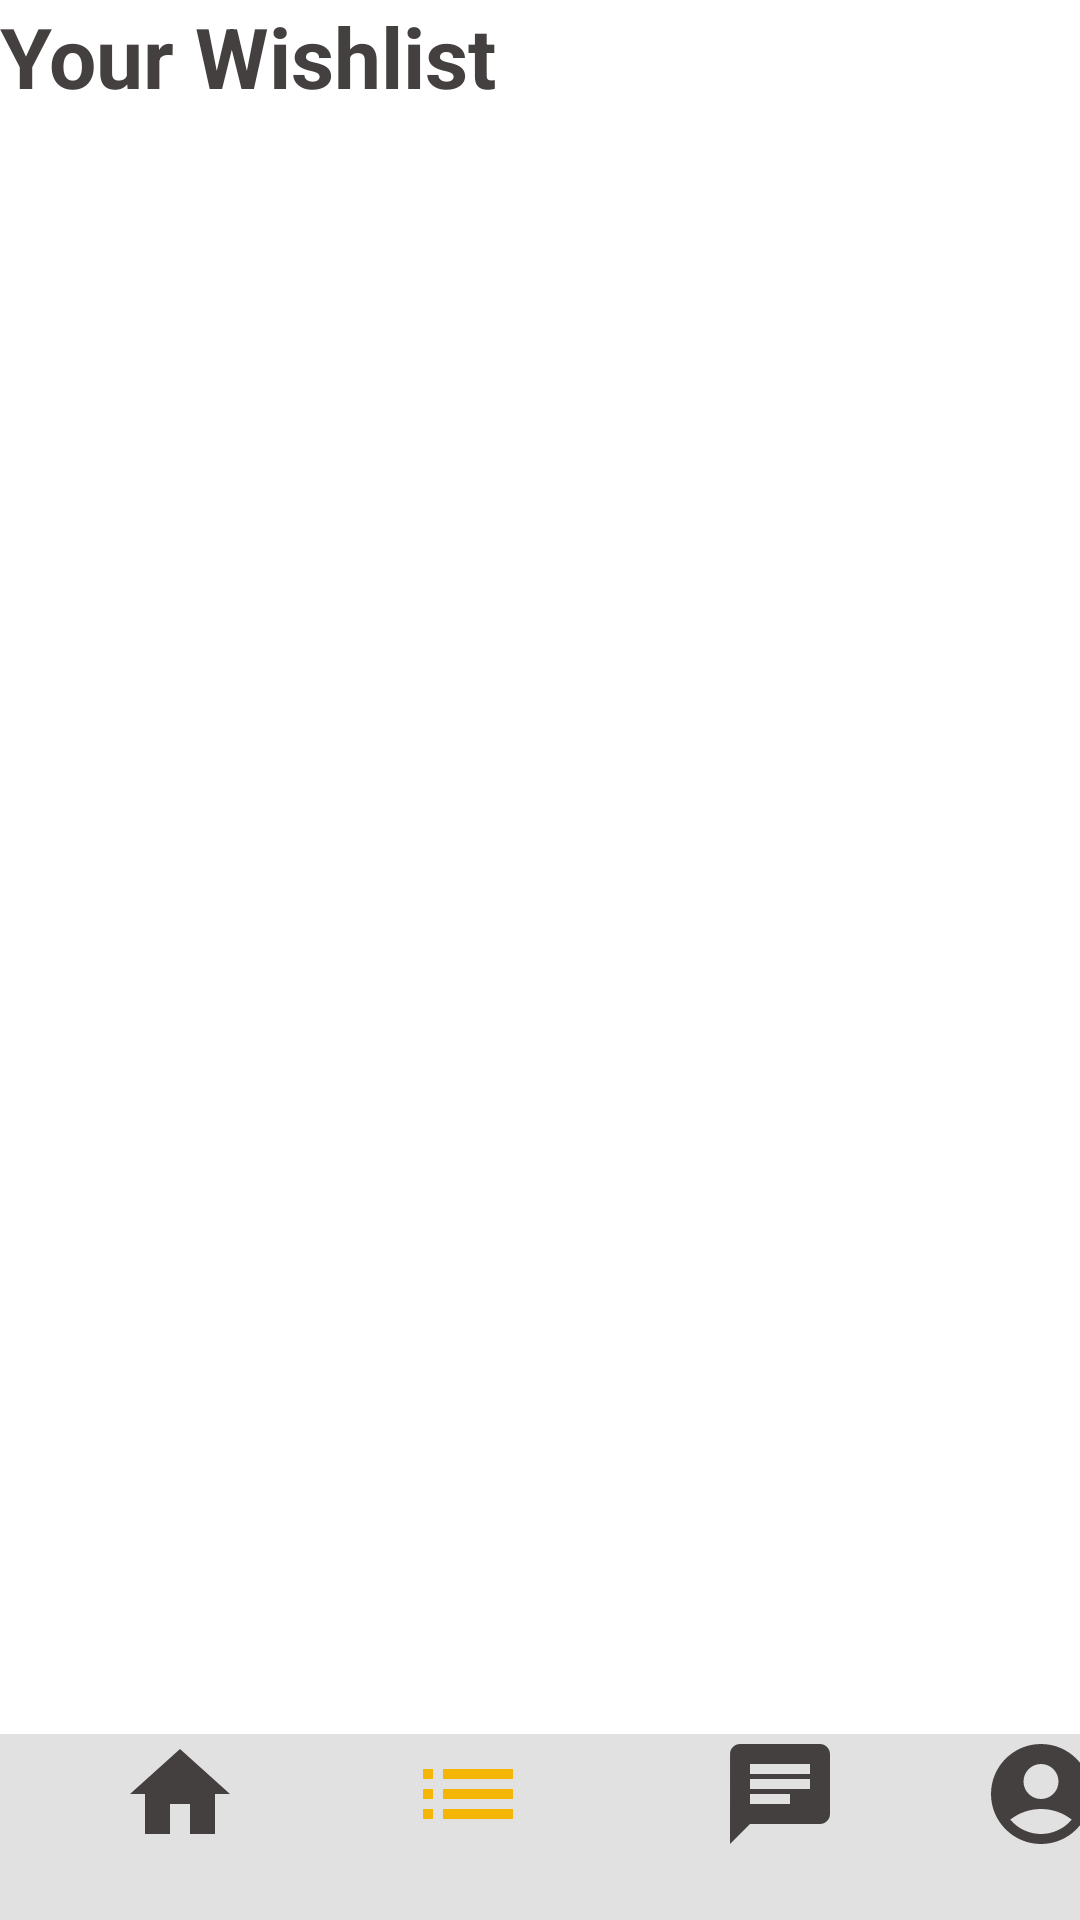

Named icons in this screenshot (1080px×1920px) and their bounding boxes, rect(x1, y1, x2, y2):
chat: rect(730, 1744, 830, 1844)
homeb: rect(130, 1749, 230, 1834)
listy: rect(423, 1769, 513, 1819)
